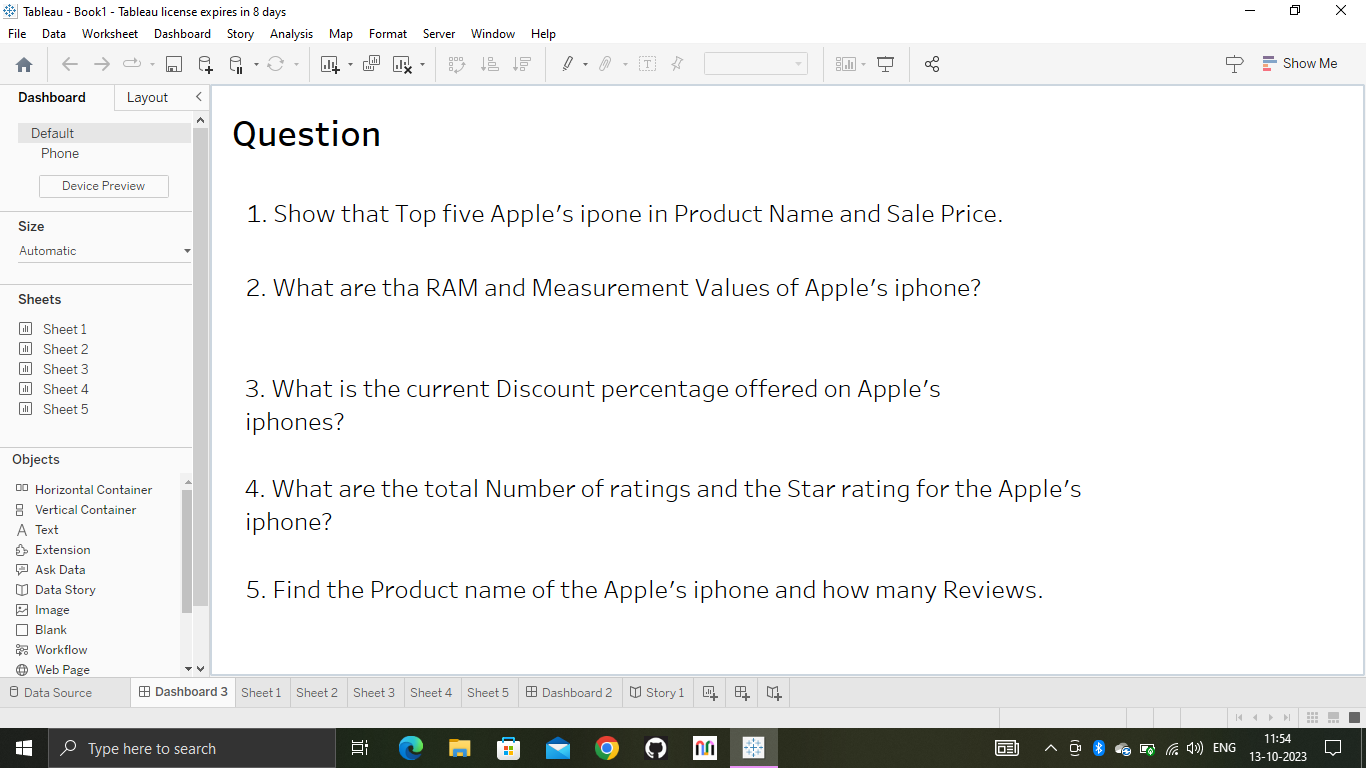

Layout of this report page (visuals, bound fields, positions):
{"tool":"tableau","page":{"name":"Dashboard 3","canvas":[1000,1000],"units":"permille","ordinal":1},"visuals":[{"type":"text","box":[16.4,22,207.8,118.2]},{"type":"text","box":[29.3,153.7,663.2,128.4]},{"type":"text","box":[28.4,221.3,665.8,241.6]},{"type":"text","box":[27.6,457.8,682.2,168.9]},{"type":"text","box":[27.6,650.3,800.2,119.9]},{"type":"text","box":[28.4,765.2,764.9,174]}]}

Visuals, with their boxes on the dashboard's canvas, which has no fixed pixel size, in thousandths of its width and height (x1, y1, x2, y2). These are canvas units, not pixel positions in the 1366x768 screenshot, which may show the page scaled, cropped or inside an application window:
text: x1=16, y1=22, x2=224, y2=140
text: x1=29, y1=154, x2=692, y2=282
text: x1=28, y1=221, x2=694, y2=463
text: x1=28, y1=458, x2=710, y2=627
text: x1=28, y1=650, x2=828, y2=770
text: x1=28, y1=765, x2=793, y2=939
